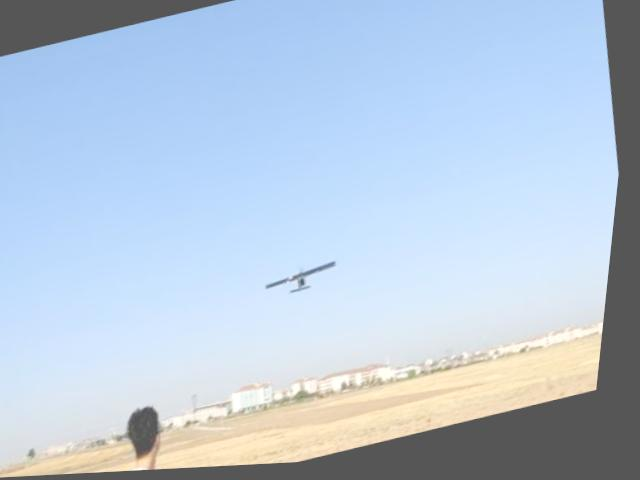uav: (267, 261, 349, 305)
